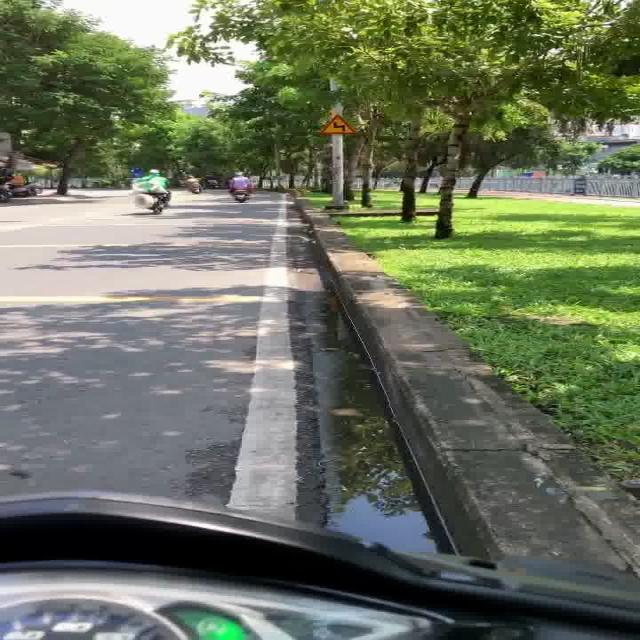Bien bao nhieu cho ngoat nguy hiem lien tiep: (313, 111, 367, 138)
